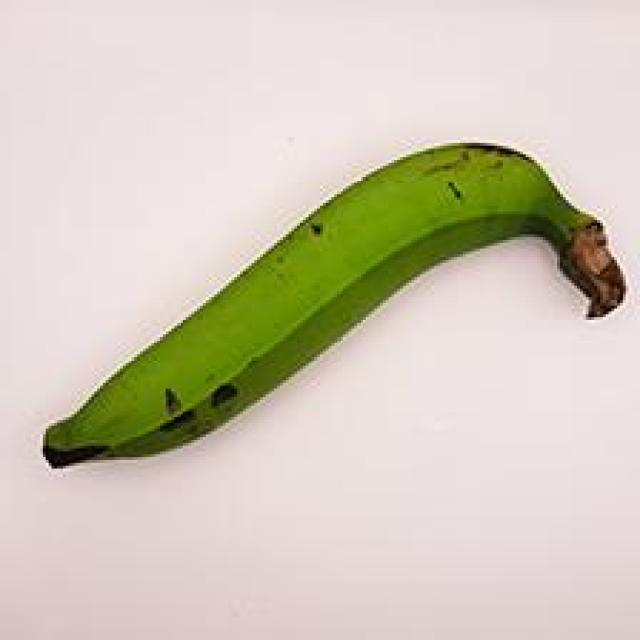Raw: (25, 117, 631, 492)
